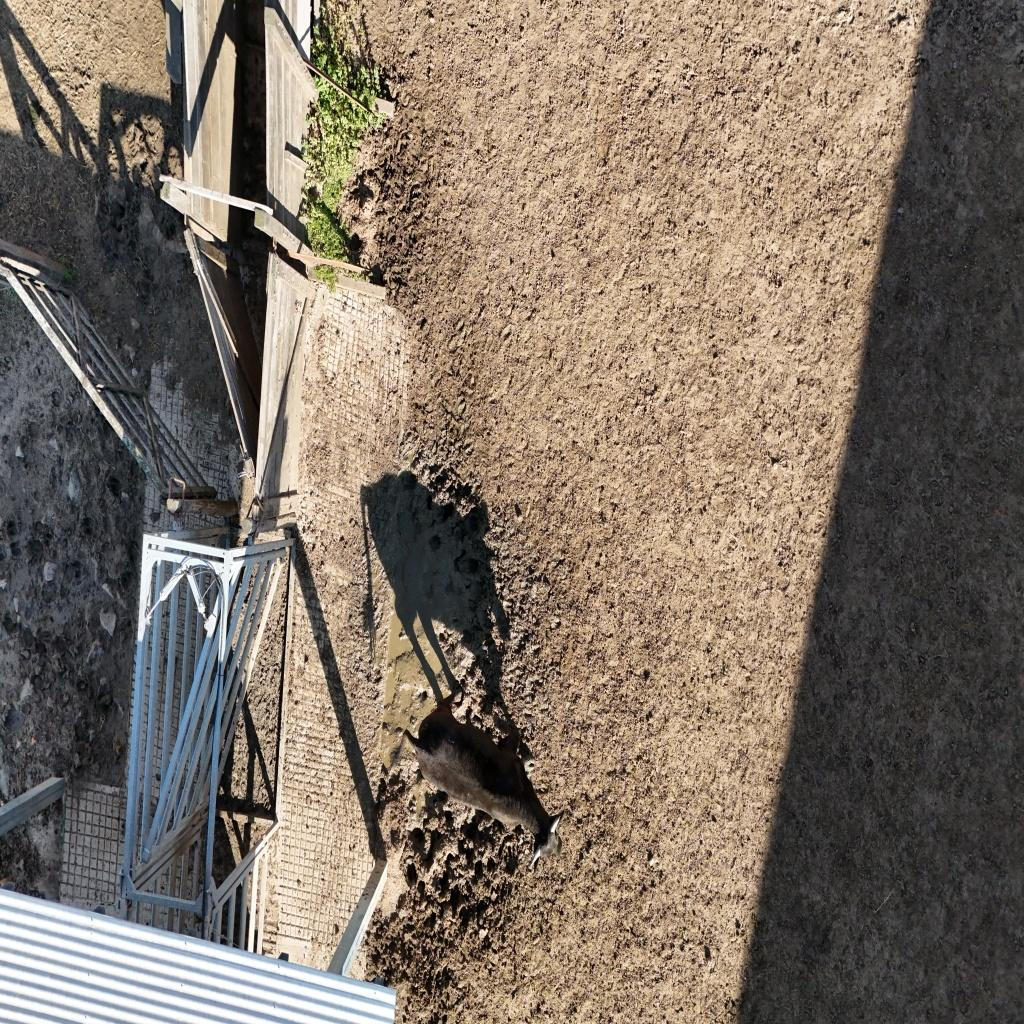cow: (392, 694, 562, 860)
